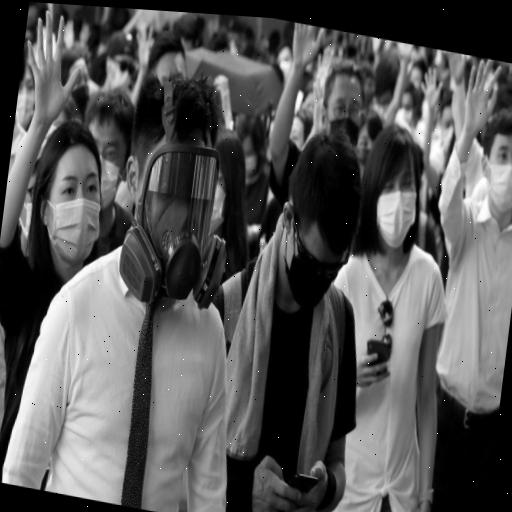mask: (116, 107, 238, 321), (275, 185, 353, 323), (34, 141, 108, 273), (366, 154, 423, 252), (82, 115, 132, 211), (98, 22, 142, 97), (320, 80, 364, 149), (482, 125, 512, 218), (208, 150, 238, 217), (14, 63, 40, 131), (62, 61, 92, 117), (234, 129, 264, 184), (436, 108, 461, 157), (273, 47, 295, 86), (396, 91, 418, 130)
